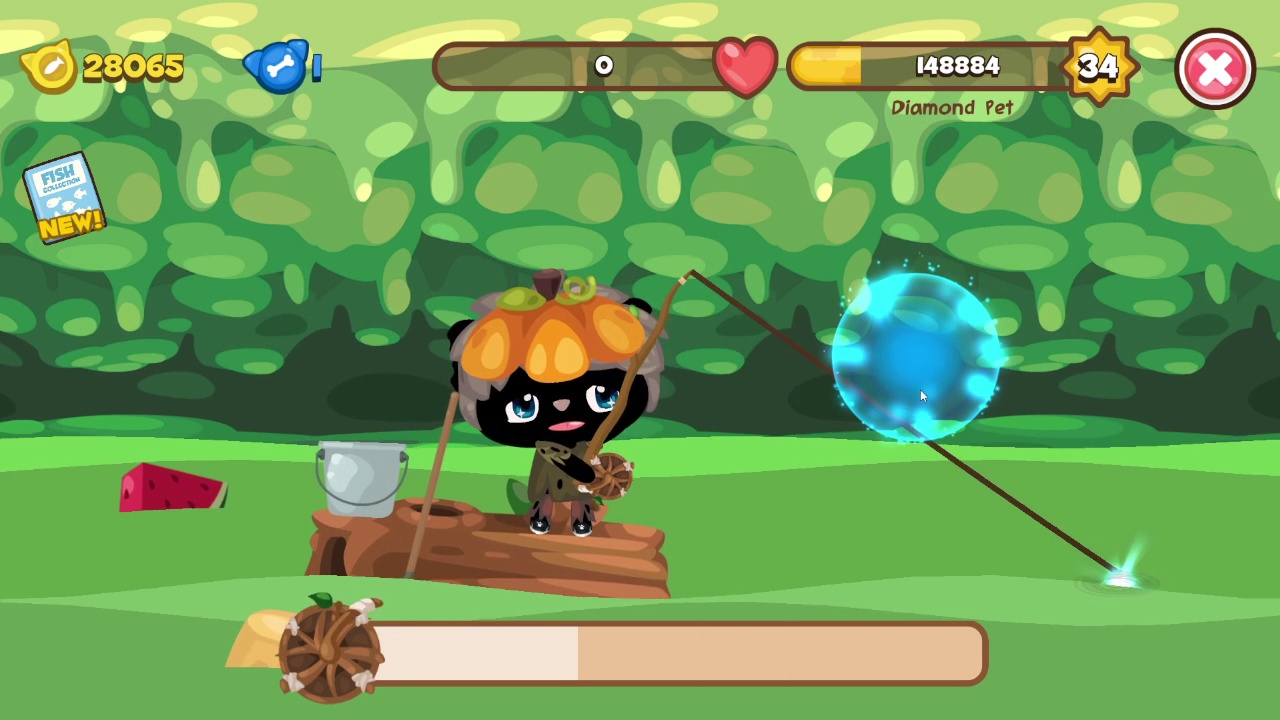point: (829, 268, 1004, 444)
